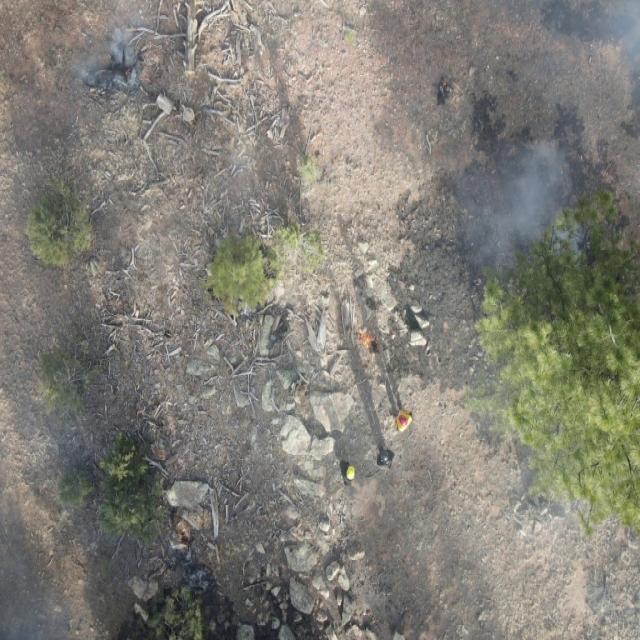fire: (356, 320, 383, 360), (176, 523, 191, 545), (124, 64, 132, 78)
smoke: (459, 148, 582, 277), (550, 0, 640, 111), (0, 532, 71, 640), (76, 20, 150, 96)
